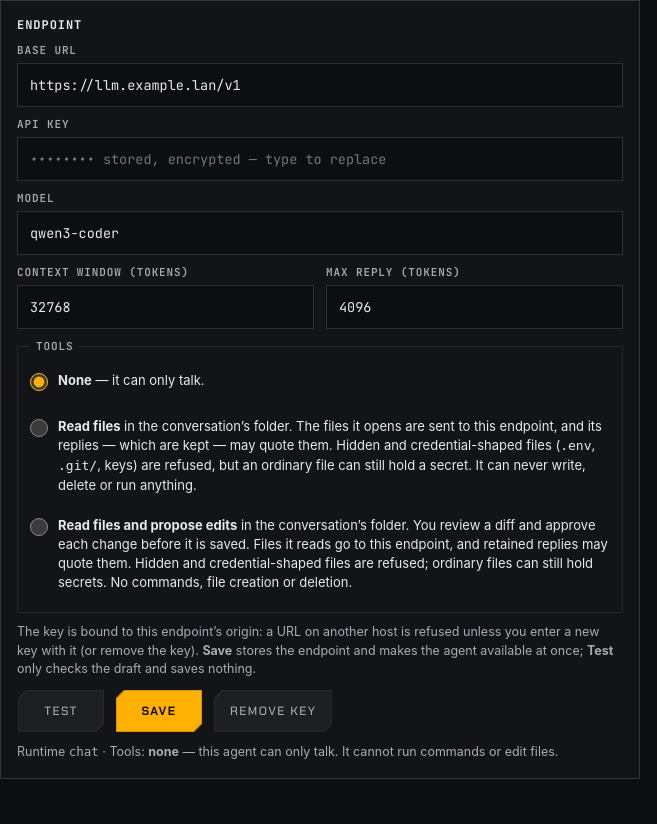
Test case: TEST checks the draft and saves nothing — and sends no key unless one was typed
Expected: the field showing "https://llm.example.lan/v1" is shown, [17,63,623,107]
Click the button "Test": (61, 711) [17,689,105,733]
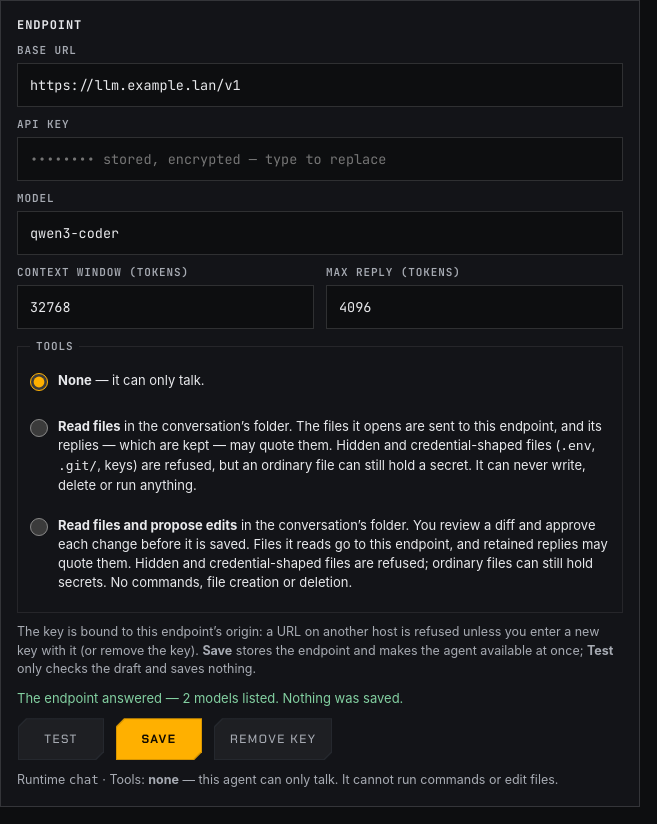
Expected: the message with test id "endpoint-status" reads "The endpoint answered — 2 models listed. Nothing was saved.", [17,690,403,706]
